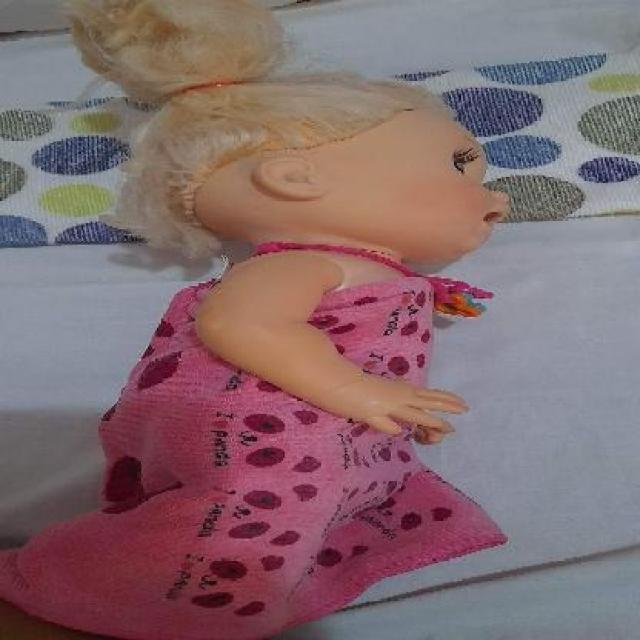non-dog: (1, 2, 511, 634)
